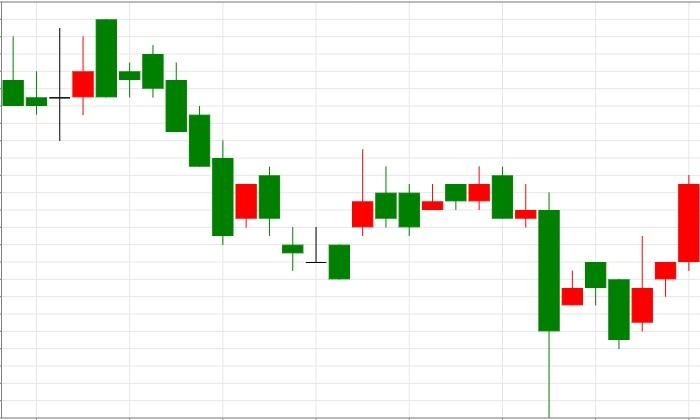three_white_soldiers_rise: (492, 167, 699, 418)
